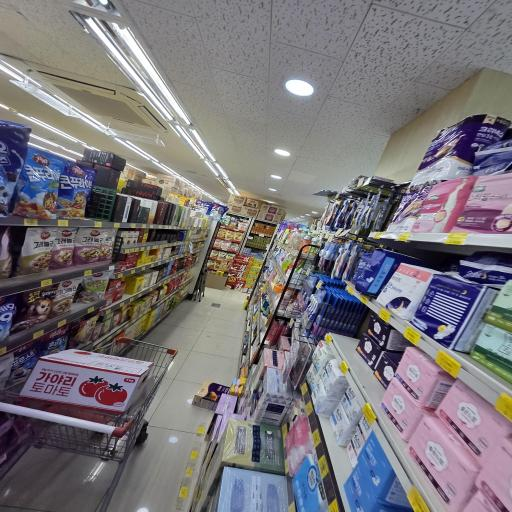fully_cart: (0, 333, 181, 510)
